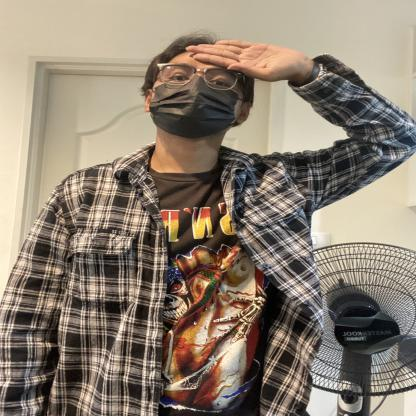Sick: (101, 10, 350, 134)
